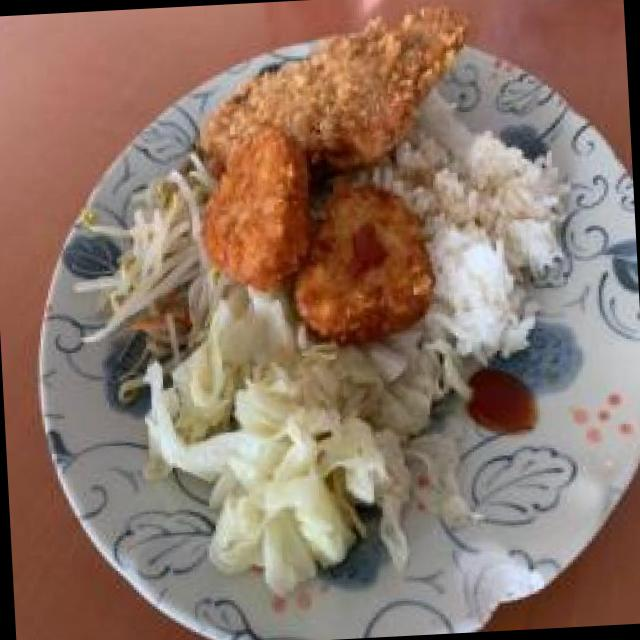chinese_cabbage: (160, 335, 426, 578)
fried_chicken: (204, 0, 466, 156)
mung_bean_sprouts: (92, 163, 212, 354)
rice: (420, 128, 554, 359)
triangle_hash_brown: (210, 132, 428, 343)
